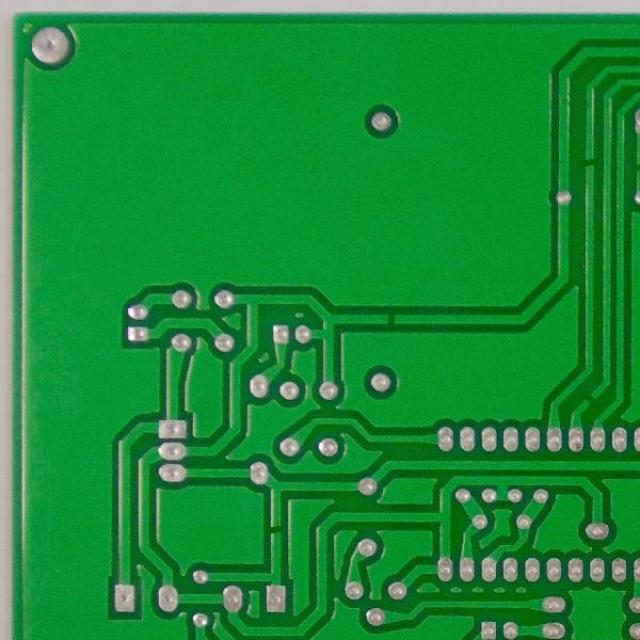Open_Circuit: (578, 147, 601, 177), (265, 515, 288, 545), (378, 308, 407, 331), (578, 385, 602, 412)
